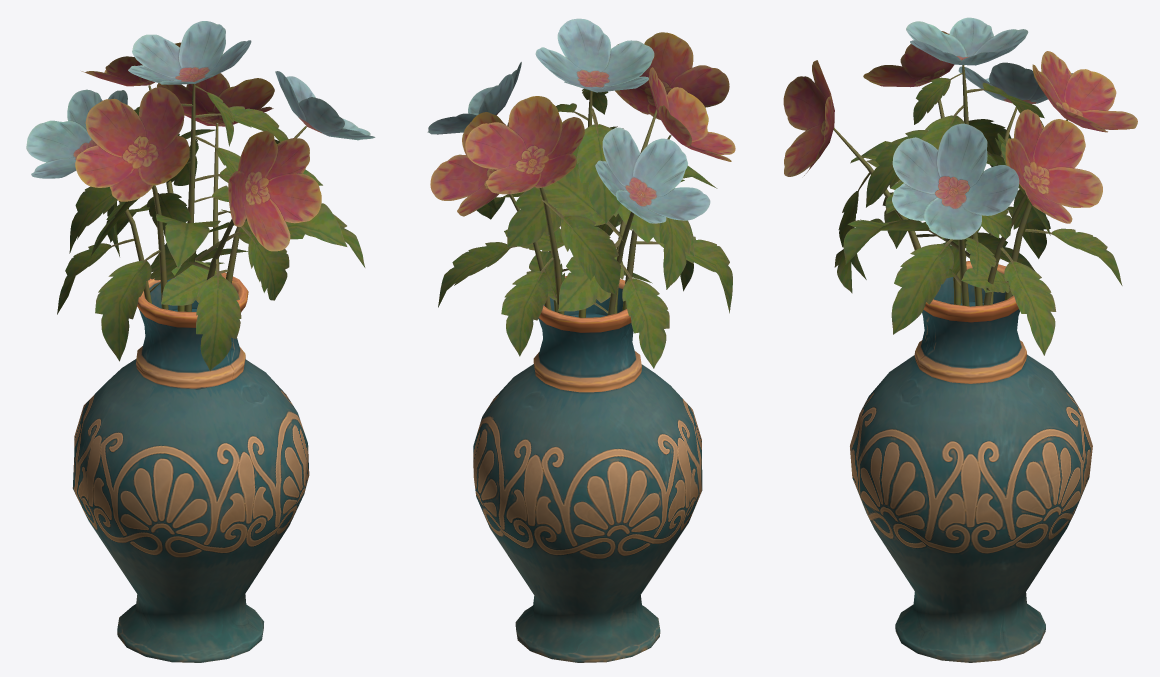
File: SM_Props_Plant_08.fbx
3 views of the same model, side by side, from view 1: azimuth 30°, elevation 25°; view 2: azimuth 150°, elevation 25°; view 3: azimuth 270°, elevation 25° (orthographic). The views are drawn at different scales.
Parts seen in each view (by area): view 1: SM_Props_Plant_08; view 2: SM_Props_Plant_08; view 3: SM_Props_Plant_08.
Boxes of the visible parts, <box> form: SM_Props_Plant_08: <box>26,21,375,662</box>; SM_Props_Plant_08: <box>427,18,735,662</box>; SM_Props_Plant_08: <box>783,17,1137,662</box>.
Bounding box in the file's own units: 61.23 × 110 × 60.53.
